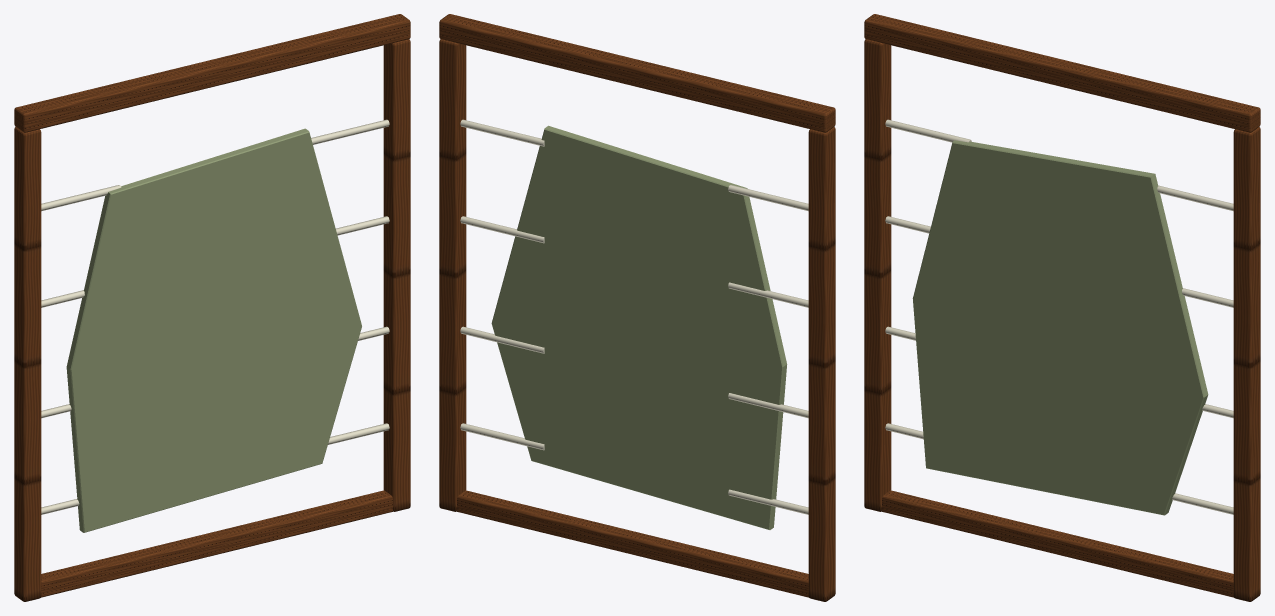
Rendered from primitive-crafting-workshop-hide-stretching-frame-d1c1d240__21561.glb.
3 views of the same model, side by side, from view 1: azimuth 30°, elevation 25°; view 2: azimuth 150°, elevation 25°; view 3: azimuth 330°, elevation 25° (orthographic).
Visible parts, largest first — view 1: hide-stretching-frame; view 2: hide-stretching-frame; view 3: hide-stretching-frame.
Part boxes in pixels (x1=…): hide-stretching-frame: x1=14, y1=14, x2=410, y2=601; hide-stretching-frame: x1=439, y1=14, x2=835, y2=601; hide-stretching-frame: x1=864, y1=14, x2=1260, y2=601.
Size of the model in its own units: 1.47 by 1.77 by 0.07.
3 materials, 1 textured.
